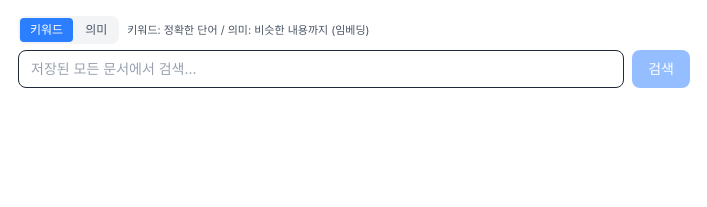
Test: GlobalSearch › 의미 모드 + 모델 불일치 제외 → 제외 안내
This screenshot has width=707, height=207.
Click the button "의미". click: click(96, 30)
box: [75,18,117,42]
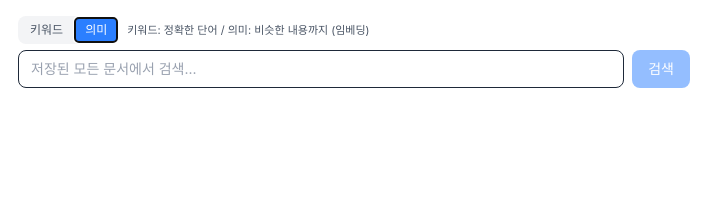
Type "질의어" into the field named "문서 검색". click: (321, 69)
box: [18,50,624,88]
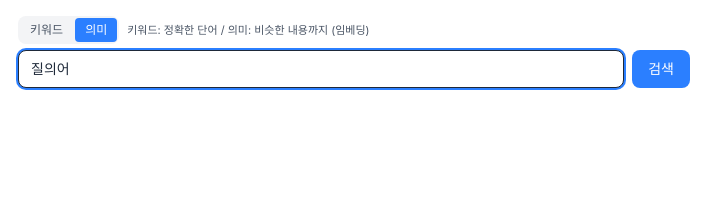
Click the button "검색". click: click(661, 69)
box: [632,50,690,88]
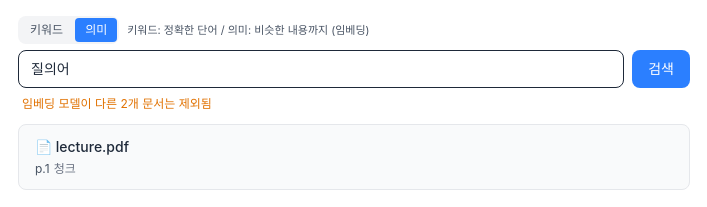
Expected: the text "임베딩 모델이 다른 2개 문서는 제외됨" is shown, [22,96,212,111]
